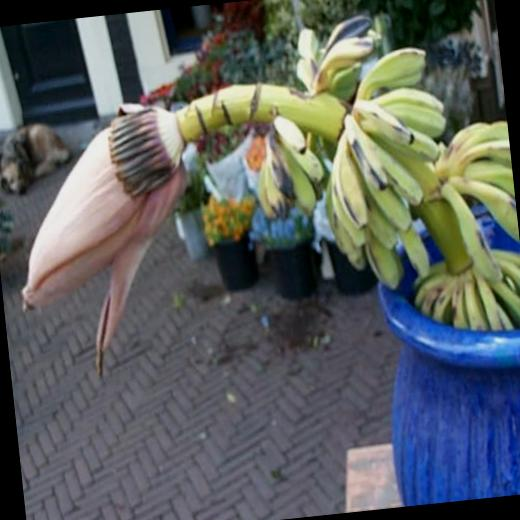Banana: (242, 0, 520, 352), (274, 113, 306, 153)
